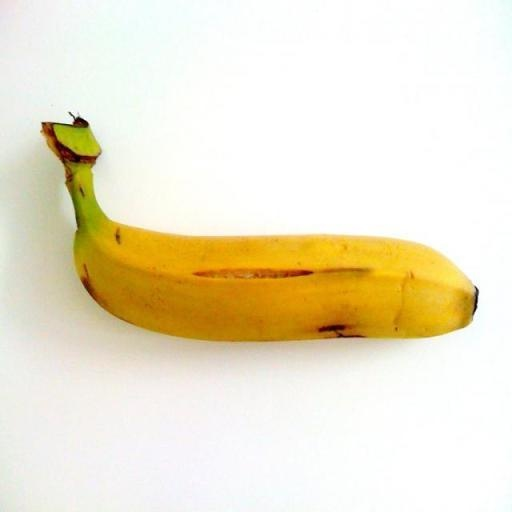fruit: (439, 156, 503, 488)
